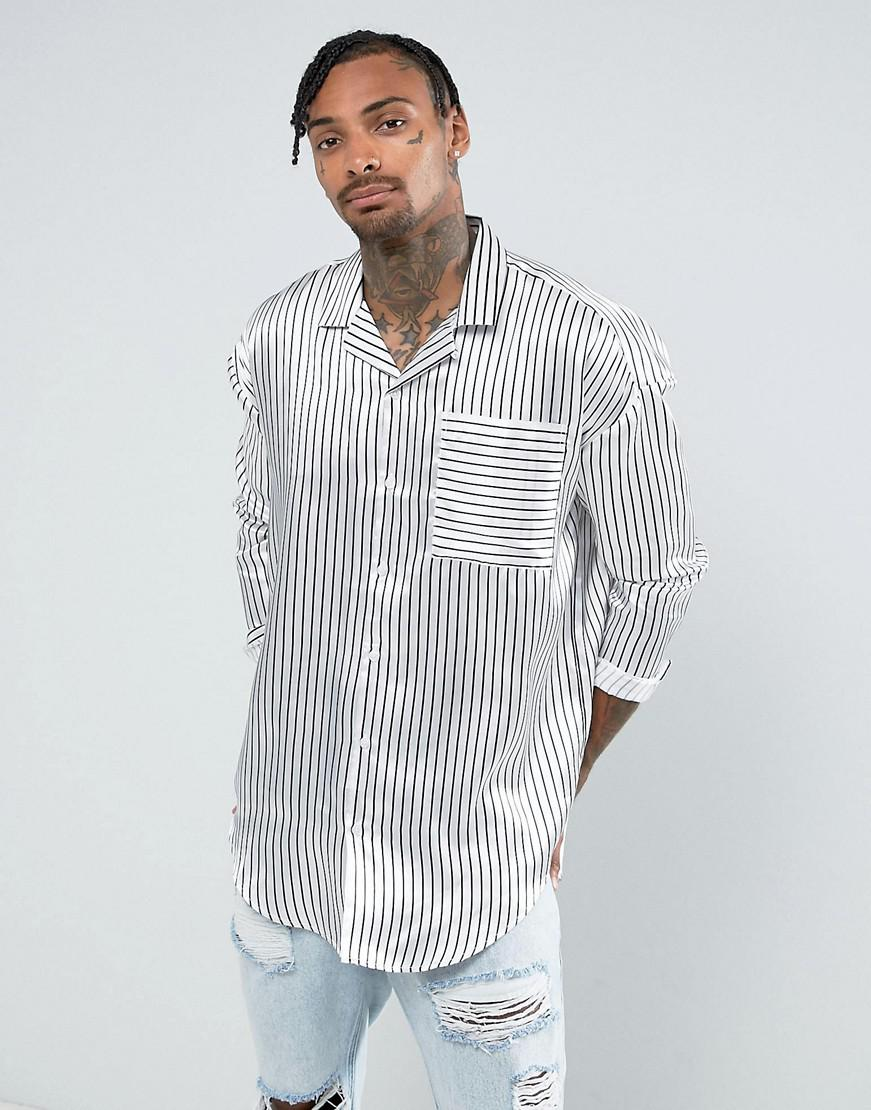teeshirt: (190, 212, 715, 986)
